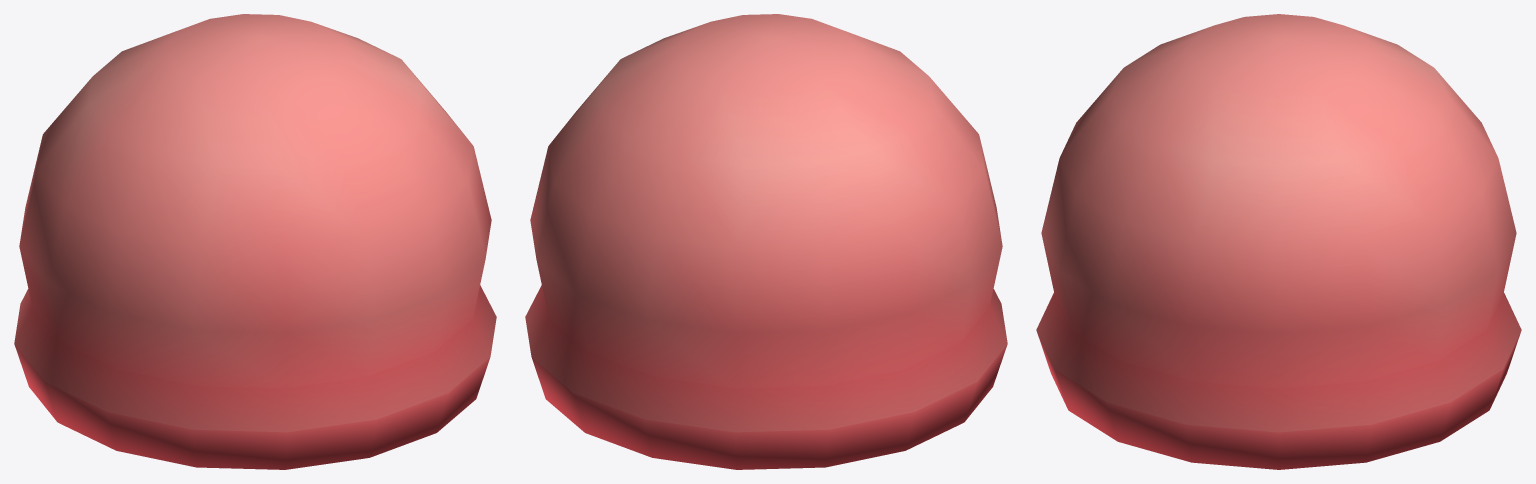
The model's file is icecream_bowl_icecream_strawberry.obj.
3 views of the same model, side by side, from view 1: azimuth 30°, elevation 25°; view 2: azimuth 150°, elevation 25°; view 3: azimuth 270°, elevation 25° (orthographic).
Parts seen in each view (by area): view 1: icecream_bowl_icecream_strawberry_Sphere.104; view 2: icecream_bowl_icecream_strawberry_Sphere.104; view 3: icecream_bowl_icecream_strawberry_Sphere.104.
Boxes of the visible parts, box(x1,y1,x2,y2) form: icecream_bowl_icecream_strawberry_Sphere.104: box(14, 14, 496, 469); icecream_bowl_icecream_strawberry_Sphere.104: box(525, 14, 1007, 469); icecream_bowl_icecream_strawberry_Sphere.104: box(1036, 14, 1521, 469).
Bounding box in the file's own units: 0.45 × 0.36 × 0.45.
1 material, 1 textured.
